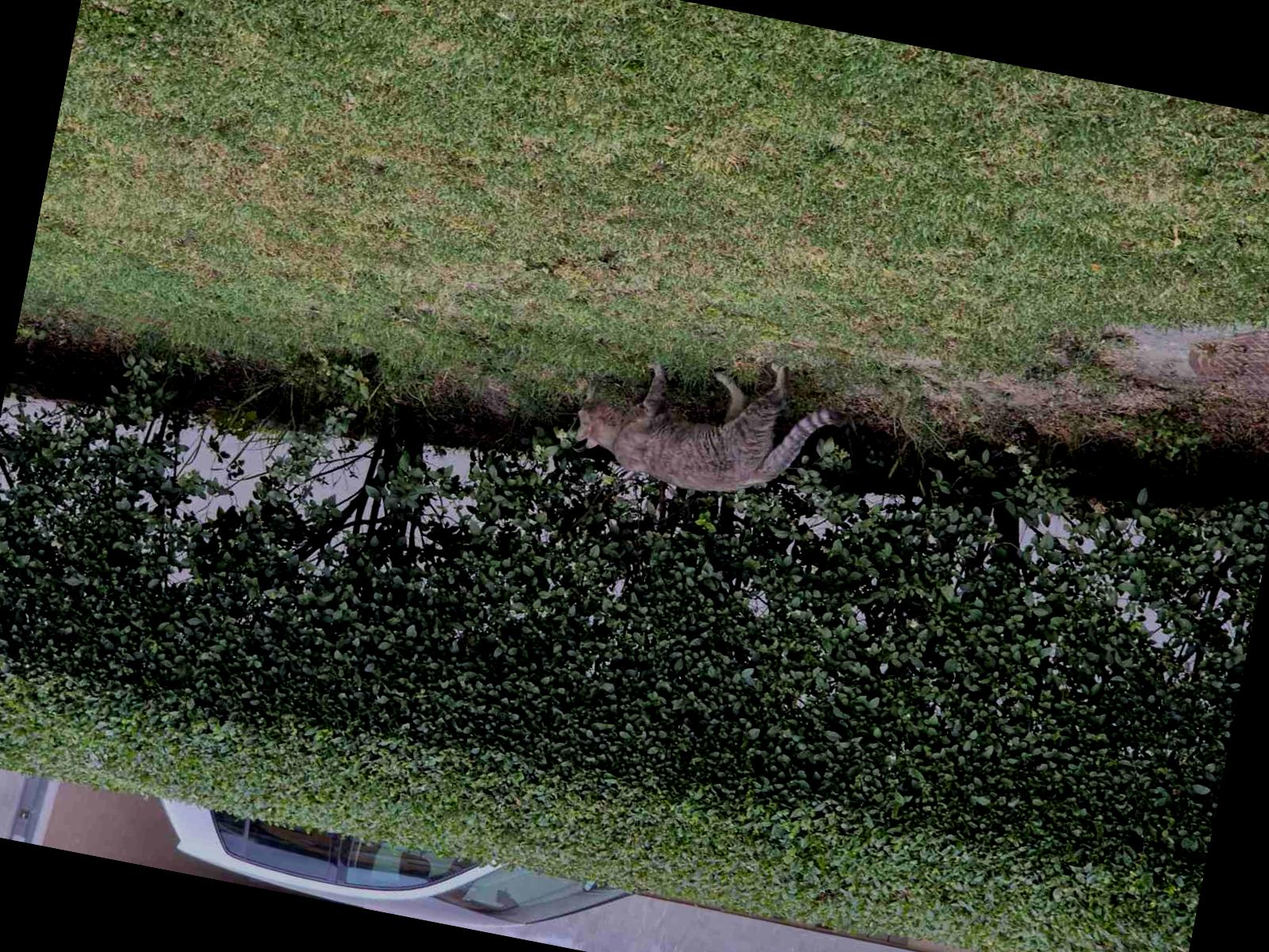macka: (566, 325, 848, 518)
